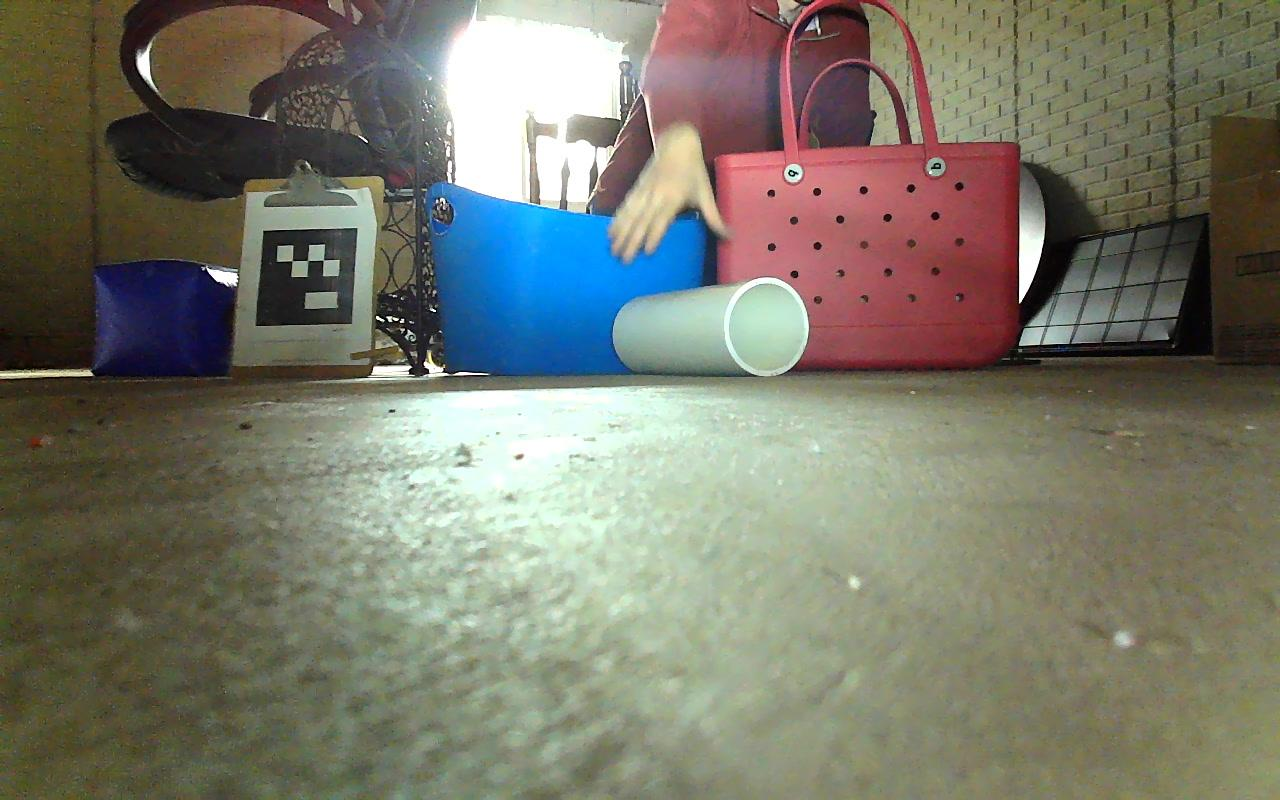coral: (612, 277, 809, 375)
